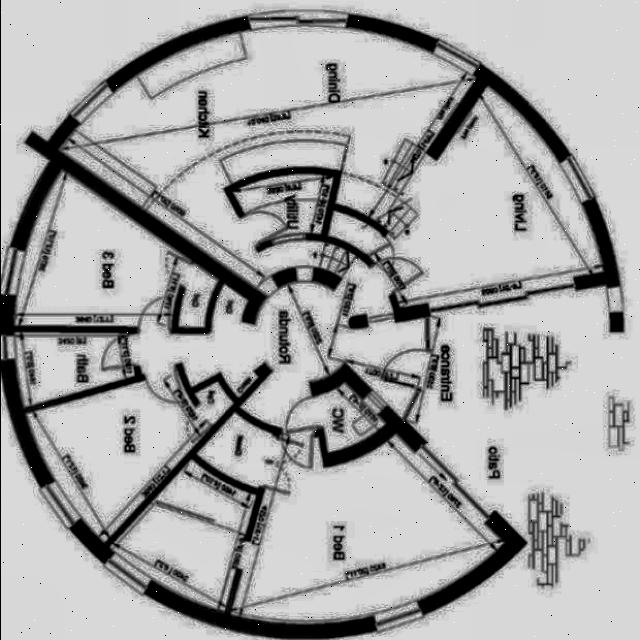room: (54, 20, 613, 315), (108, 436, 502, 624), (129, 249, 438, 453), (0, 301, 235, 543), (4, 167, 235, 378), (9, 314, 136, 407), (231, 169, 341, 246), (192, 405, 284, 492), (311, 376, 388, 453)
